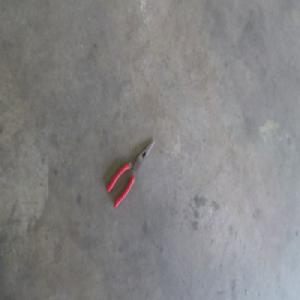Pliers: (107, 133, 156, 206)
